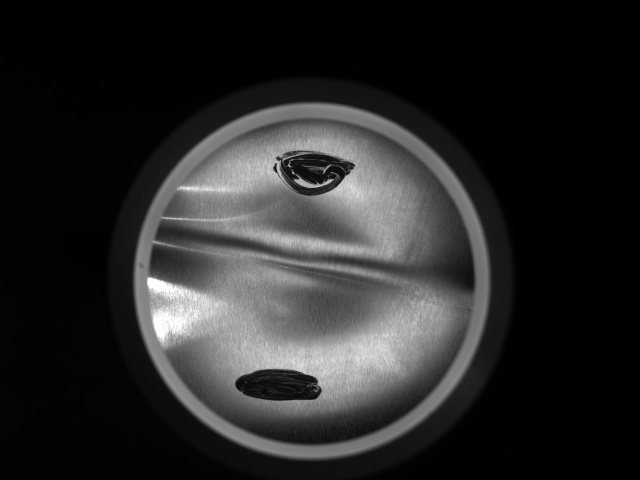zang_wu: (268, 145, 363, 198), (229, 366, 328, 401)
zhe_zhou: (195, 143, 427, 414)
